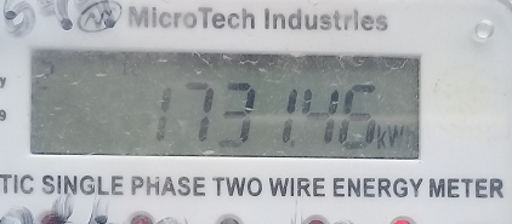1: (153, 80, 175, 150), (279, 83, 296, 148)
3: (216, 78, 255, 155)
4: (298, 80, 339, 151)
6: (340, 78, 375, 152)
7: (177, 77, 213, 148)
d: (288, 138, 297, 150)
